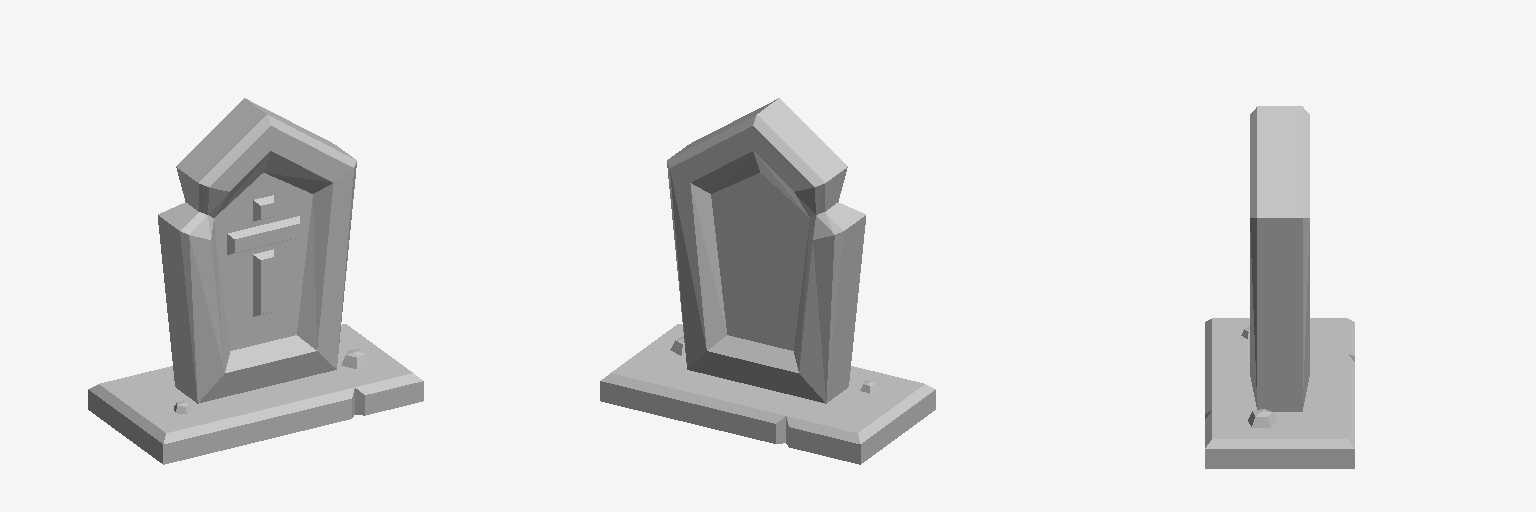
Rendered from grave_B.obj.
3 renders of one model, left to right at view 1: azimuth 30°, elevation 25°; view 2: azimuth 150°, elevation 25°; view 3: azimuth 270°, elevation 25°, orthographic.
Parts seen in each view (by area): view 1: grave_B_Cube.109; view 2: grave_B_Cube.109; view 3: grave_B_Cube.109.
Boxes of the visible parts, x1,y1,x2,y2 form: grave_B_Cube.109: [88, 98, 423, 464]; grave_B_Cube.109: [600, 98, 935, 464]; grave_B_Cube.109: [1205, 106, 1354, 468].
Size of the model in its own units: 2 by 2.2 by 1.